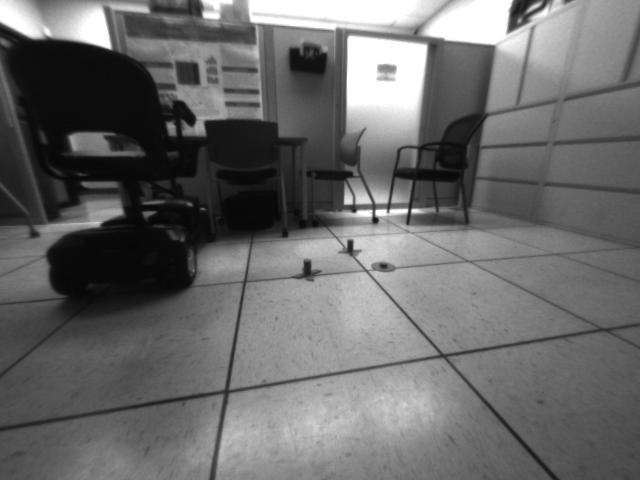X: (292, 257, 321, 281), (338, 237, 361, 258)
